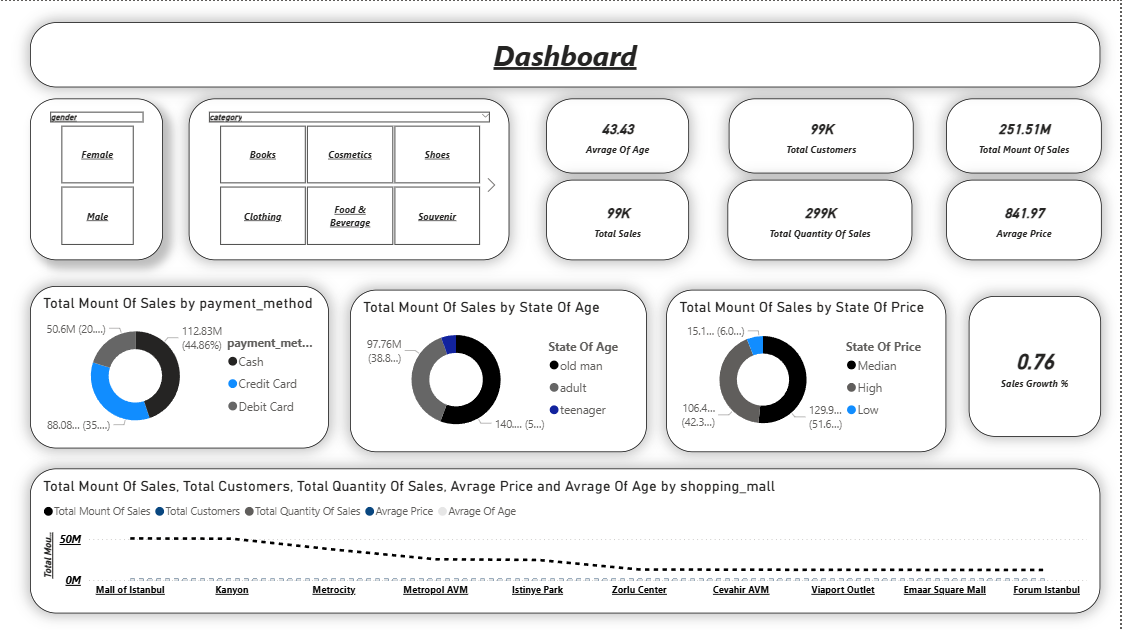

What the dashboard file says about the page in this screenshot:
{"tool":"powerbi","page":{"name":"Dashboard","canvas":[1280,720],"ordinal":0},"visuals":[{"type":"card","fields":{"Values":["customer_shopping_data.Avrage Of Age"]},"box":[624.9,111,162.9,85.7],"z":0},{"type":"card","fields":{"Values":["customer_shopping_data.Total Customers"]},"box":[832.4,111,211.1,85.7],"z":1000},{"type":"card","fields":{"Values":["customer_shopping_data.Total Mount Of Sales"]},"box":[1081,111,177.3,85.7],"z":2000},{"type":"card","fields":{"Values":["customer_shopping_data.Total Sales"]},"box":[624.9,203.9,162.9,91.7],"z":3000},{"type":"card","fields":{"Values":["customer_shopping_data.Total Quantity Of Sales"]},"box":[831.2,203.9,211.1,91.7],"z":4000},{"type":"slicer","fields":{"Values":["customer_shopping_data.gender"]},"box":[35,111,152,184.6],"z":5000},{"type":"slicer","fields":{"Values":["customer_shopping_data.category"]},"box":[216,111,366.8,184.6],"z":6000},{"type":"card","fields":{"Values":["customer_shopping_data.Avrage Price"]},"box":[1081,203.9,177.3,91.7],"z":7000},{"type":"donutChart","fields":{"Category":["customer_shopping_data.payment_method"],"Y":["customer_shopping_data.Total Mount Of Sales"]},"box":[35,325.7,341.4,185.8],"z":8000},{"type":"textbox","box":[35,24.1,1223.3,74.8],"z":9000},{"type":"donutChart","fields":{"Category":["customer_shopping_data.State Of Age"],"Y":["customer_shopping_data.Total Mount Of Sales"]},"box":[399.3,330.6,339,185.8],"z":11000},{"type":"lineChart","fields":{"Category":["customer_shopping_data.shopping_mall"],"Y":["customer_shopping_data.Total Mount Of Sales","customer_shopping_data.Total Customers","customer_shopping_data.Total Quantity Of Sales","customer_shopping_data.Avrage Price","customer_shopping_data.Avrage Of Age"]},"box":[35,534.5,1223.3,165.3],"z":12000},{"type":"donutChart","fields":{"Y":["customer_shopping_data.Total Mount Of Sales"],"Category":["customer_shopping_data.State Of Price "]},"box":[761.3,330.6,319.7,185.8],"z":13000},{"type":"card","fields":{"Values":["customer_shopping_data.Sales Growth %  For 2022"]},"box":[1107.5,337.8,150.8,160.5],"z":14000}]}

Visuals, with their boxes in screenshot pixels (x1, y1, x2, y2), scaled from the page's 1280x720 canvas onto the 1122x630 screenshot:
card - customer_shopping_data.Avrage Of Age: 548,97,691,172
card - customer_shopping_data.Total Customers: 730,97,915,172
card - customer_shopping_data.Total Mount Of Sales: 948,97,1103,172
card - customer_shopping_data.Total Sales: 548,178,691,259
card - customer_shopping_data.Total Quantity Of Sales: 729,178,914,259
slicer - customer_shopping_data.gender: 31,97,164,259
slicer - customer_shopping_data.category: 189,97,511,259
card - customer_shopping_data.Avrage Price: 948,178,1103,259
donutChart - customer_shopping_data.payment_method x customer_shopping_data.Total Mount Of Sales: 31,285,330,448
textbox: 31,21,1103,87
donutChart - customer_shopping_data.State Of Age x customer_shopping_data.Total Mount Of Sales: 350,289,647,452
lineChart - customer_shopping_data.shopping_mall x customer_shopping_data.Total Mount Of Sales: 31,468,1103,612
donutChart - customer_shopping_data.Total Mount Of Sales x customer_shopping_data.State Of Price : 667,289,948,452
card - customer_shopping_data.Sales Growth %  For 2022: 971,296,1103,436
